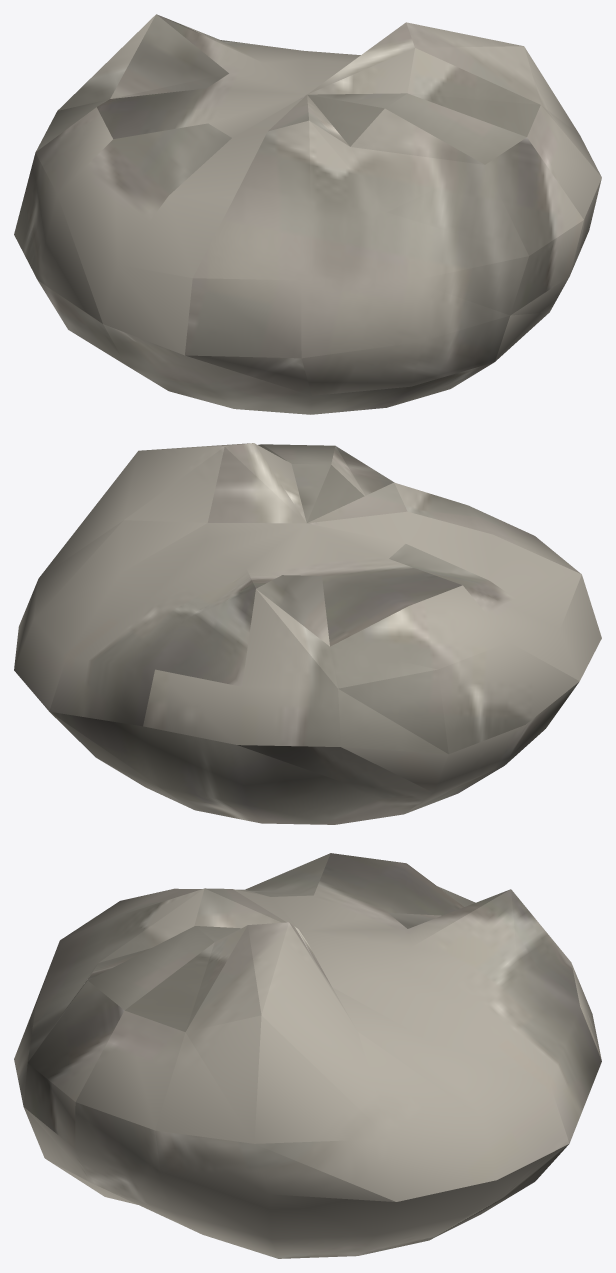
Rendered from r32_erzpack_object_12.glb.
The picture shows the model from 3 angles, top to bottom: view 1: azimuth 30°, elevation 25°; view 2: azimuth 150°, elevation 25°; view 3: azimuth 270°, elevation 25°; orthographic projection. The views are drawn at different scales.
Parts seen in each view (by area): view 1: erz_12; view 2: erz_12; view 3: erz_12.
Boxes of the visible parts, <box> form: erz_12: <box>14,14,601,414</box>; erz_12: <box>14,443,601,824</box>; erz_12: <box>14,853,601,1258</box>.
Bounding box in the file's own units: 1 × 0.5948 × 0.9761.
Materials: 1 (1 with a texture image).
